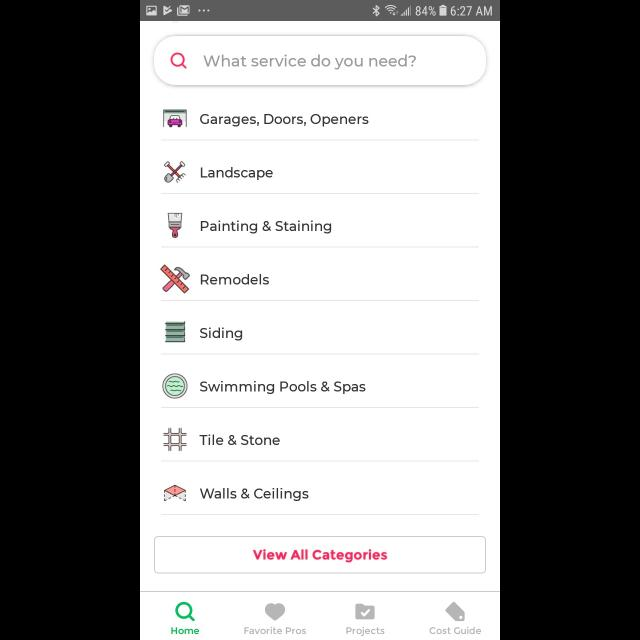icon: (445, 602, 465, 622), (176, 602, 196, 622), (265, 603, 285, 621), (170, 52, 188, 70), (356, 604, 374, 620)
image: (161, 264, 191, 294), (162, 373, 188, 399), (163, 427, 187, 451), (165, 161, 187, 183), (166, 321, 187, 343), (164, 110, 188, 128), (164, 484, 186, 502), (168, 213, 182, 239)
input: (154, 36, 486, 86)
text: (204, 54, 416, 70), (200, 114, 368, 128), (200, 382, 366, 394), (200, 220, 332, 234), (200, 488, 308, 502), (200, 434, 280, 446), (200, 168, 274, 180), (200, 274, 270, 286), (200, 328, 243, 340), (244, 626, 306, 634), (429, 626, 481, 634), (346, 627, 386, 637), (171, 626, 199, 634)
textbutton: (154, 536, 486, 574)
uppertaskbar: (140, 1, 500, 22)
